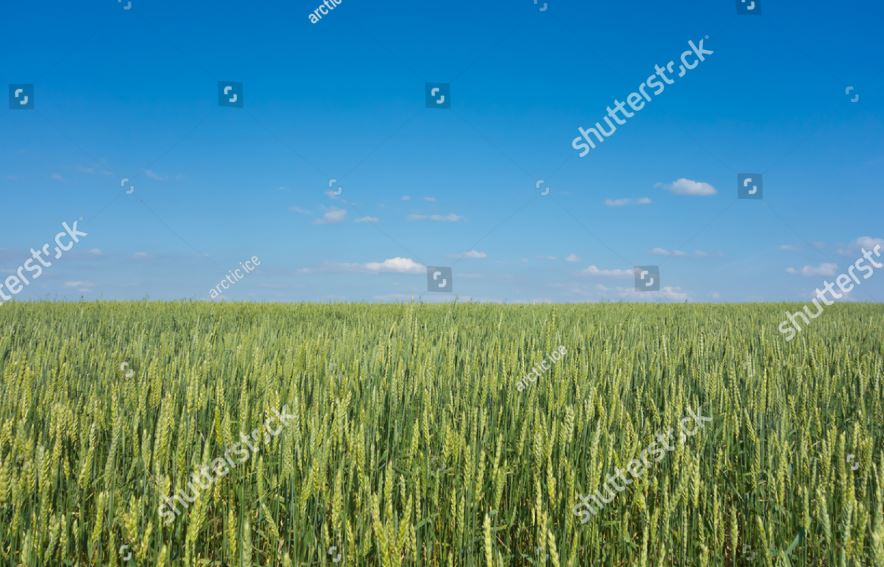Wheat: (77, 372, 866, 555)
